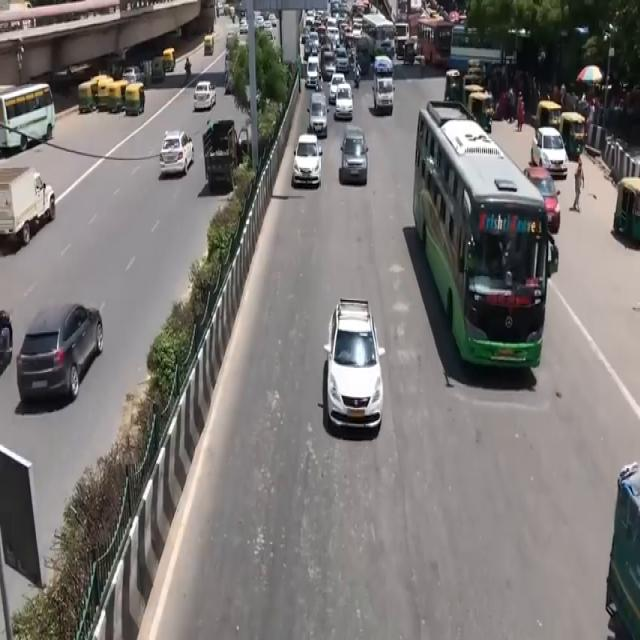BUS: (410, 101, 548, 380), (0, 85, 55, 158), (416, 14, 452, 66)
SUV: (17, 301, 104, 412), (328, 305, 382, 432)
